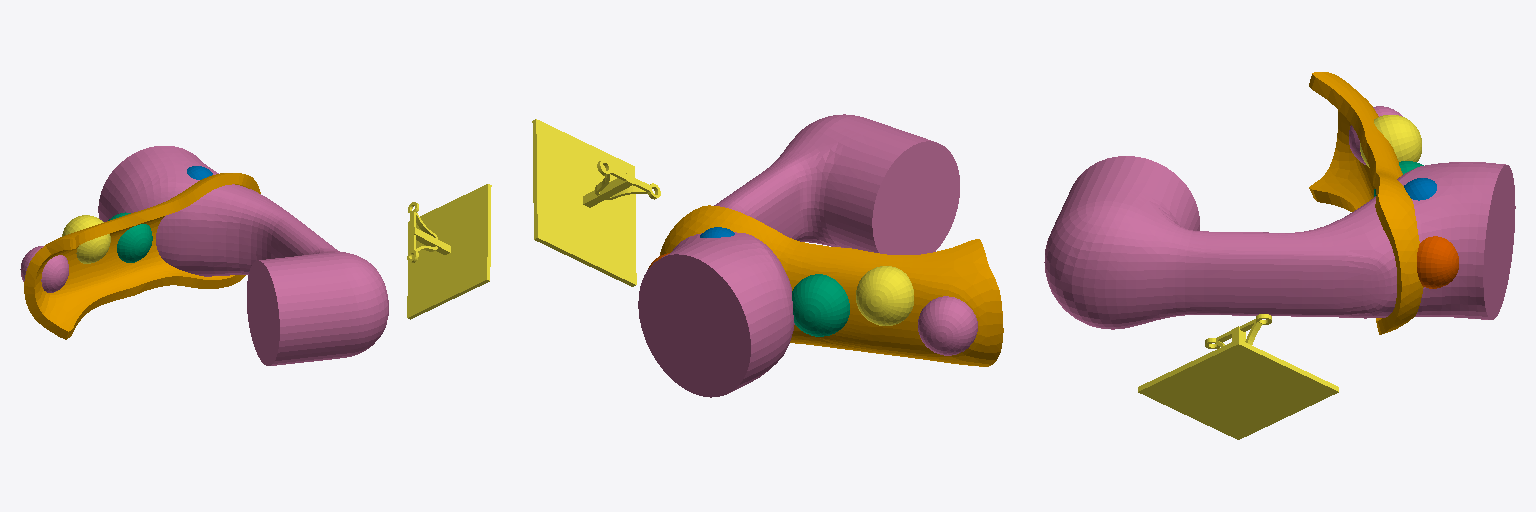
URDF robot description (fr3):
<?xml version="1.0" ?>
<!-- =================================================================================== -->
<!-- |    This document was autogenerated by xacro from fr3.urdf.xacro                 | -->
<!-- |    EDITING THIS FILE BY HAND IS NOT RECOMMENDED                                 | -->
<!-- =================================================================================== -->
<robot name="fr3">
  <!-- safety_distance: Minimum safety distance in [m] by which the collision volumes are expanded and which is enforced during robot motions -->
  <!-- arm_id: Namespace of the robot arm. Serves to differentiate between arms in case of multiple instances. -->
  <!-- joint_limits: description of the joint limits that comes from a YAML file. Example definition: ${xacro.load_yaml('$(find franka_description)/robots/fr3/joint_limits.yaml')} -->
  <!-- kinematics: description of the kinematics that comes from a YAML file. Example definition: ${xacro.load_yaml('$(find franka_description)/robots/fr3/kinematics.yaml')} -->
  <!-- inertials: description of the inertials that comes from a YAML file. Example definition: ${xacro.load_yaml('$(find franka_description)/robots/fr3/inertials.yaml')} -->
  <!-- dynamics: description of the dynamics that comes from a YAML file. Example definition: ${xacro.load_yaml('$(find franka_description)/robots/fr3/dynamics.yaml')} -->
  <link name="base">
      </link>
  <joint name="fr3_base_joint" type="fixed">
    <parent link="base"/>
    <child link="fr3_link0"/>
    <origin rpy="0 0 0" xyz="0 0 0"/>
  </joint>
  <!-- sub-link defining detailed meshes for collision with environment -->
  <link name="fr3_link0">
    <visual name="fr3_link0_visual">
      <geometry>
        <mesh filename="package://franka_description/meshes/robot_arms/fr3/visual/link0.dae"/>
      </geometry>
    </visual>
    <collision name="fr3_link0_collision">
      <geometry>
        <mesh filename="package://franka_description/meshes/robot_arms/fr3/collision/link0.stl"/>
      </geometry>
    </collision>
    <inertial>
      <origin rpy="0 0 0" xyz="-0.0172 0.0004 0.0745"/>
      <mass value="2.3966"/>
      <inertia ixx="0.009" ixy="0.0" ixz="0.002" iyy="0.0115" iyz="0.0" izz="0.0085"/>
    </inertial>
  </link>
  <!-- sub-link defining detailed meshes for collision with environment -->
  <link name="fr3_link1">
    <visual name="fr3_link1_visual">
      <geometry>
        <mesh filename="package://franka_description/meshes/robot_arms/fr3/visual/link1.dae"/>
      </geometry>
    </visual>
    <collision name="fr3_link1_collision">
      <geometry>
        <mesh filename="package://franka_description/meshes/robot_arms/fr3/collision/link1.stl"/>
      </geometry>
    </collision>
    <inertial>
      <origin rpy="0 0 0" xyz="0.0000004128 -0.0181251324 -0.0386035970"/>
      <mass value="2.9274653454"/>
      <inertia ixx="0.023927316485107913" ixy="1.3317903455714081e-05" ixz="-0.00011404774918616684" iyy="0.0224821613275756" iyz="-0.0019950320628240115" izz="0.006350098258530016"/>
    </inertial>
  </link>
  <joint name="fr3_joint1" type="revolute">
    <origin rpy="0 0 0" xyz="0 0 0.333"/>
    <parent link="fr3_link0"/>
    <child link="fr3_link1"/>
    <axis xyz="0 0 1"/>
    <limit effort="87.0" lower="-2.7437" upper="2.7437" velocity="2.62"/>
    <safety_controller k_position="100.0" k_velocity="40.0" soft_lower_limit="-2.7437" soft_upper_limit="2.7437"/>
    <dynamics D="1" K="7000" damping="0.003" friction="0.2" mu_coulomb="0" mu_viscous="16"/>
  </joint>
  <!-- sub-link defining detailed meshes for collision with environment -->
  <link name="fr3_link2">
    <visual name="fr3_link2_visual">
      <geometry>
        <mesh filename="package://franka_description/meshes/robot_arms/fr3/visual/link2.dae"/>
      </geometry>
    </visual>
    <collision name="fr3_link2_collision">
      <geometry>
        <mesh filename="package://franka_description/meshes/robot_arms/fr3/collision/link2.stl"/>
      </geometry>
    </collision>
    <inertial>
      <origin rpy="0 0 0" xyz="0.0031828864 -0.0743221644 0.0088146084"/>
      <mass value="2.9355370338"/>
      <inertia ixx="0.041938946257609425" ixy="0.00020257331521090626" ixz="0.004077784227179924" iyy="0.02514514885014724" iyz="-0.0042252158006570156" izz="0.06170214472888839"/>
    </inertial>
  </link>
  <joint name="fr3_joint2" type="revolute">
    <origin rpy="-1.570796326794897 0 0" xyz="0 0 0"/>
    <parent link="fr3_link1"/>
    <child link="fr3_link2"/>
    <axis xyz="0 0 1"/>
    <limit effort="87.0" lower="-1.7837" upper="1.7837" velocity="2.62"/>
    <safety_controller k_position="100.0" k_velocity="40.0" soft_lower_limit="-1.7837" soft_upper_limit="1.7837"/>
    <dynamics D="1" K="7000" damping="0.003" friction="0.2" mu_coulomb="0" mu_viscous="16"/>
  </joint>
  <!-- sub-link defining detailed meshes for collision with environment -->
  <link name="fr3_link3">
    <visual name="fr3_link3_visual">
      <geometry>
        <mesh filename="package://franka_description/meshes/robot_arms/fr3/visual/link3.dae"/>
      </geometry>
    </visual>
    <collision name="fr3_link3_collision">
      <geometry>
        <mesh filename="package://franka_description/meshes/robot_arms/fr3/collision/link3.stl"/>
      </geometry>
    </collision>
    <inertial>
      <origin rpy="0 0 0" xyz="0.0407015686 -0.0048200565 -0.0289730823"/>
      <mass value="2.2449013699"/>
      <inertia ixx="0.02410142547240885" ixy="0.002404694559042109" ixz="-0.002856269270114313" iyy="0.01974053266708178" iyz="-0.002104212683891874" izz="0.019044494482244823"/>
    </inertial>
  </link>
  <joint name="fr3_joint3" type="revolute">
    <origin rpy="1.570796326794897 0 0" xyz="0 -0.316 0"/>
    <parent link="fr3_link2"/>
    <child link="fr3_link3"/>
    <axis xyz="0 0 1"/>
    <limit effort="87.0" lower="-2.9007" upper="2.9007" velocity="2.62"/>
    <safety_controller k_position="100.0" k_velocity="40.0" soft_lower_limit="-2.9007" soft_upper_limit="2.9007"/>
    <dynamics D="1" K="7000" damping="0.003" friction="0.2" mu_coulomb="0" mu_viscous="16"/>
  </joint>
  <!-- sub-link defining detailed meshes for collision with environment -->
  <link name="fr3_link4">
    <visual name="fr3_link4_visual">
      <geometry>
        <mesh filename="package://franka_description/meshes/robot_arms/fr3/visual/link4.dae"/>
      </geometry>
    </visual>
    <collision name="fr3_link4_collision">
      <geometry>
        <mesh filename="package://franka_description/meshes/robot_arms/fr3/collision/link4.stl"/>
      </geometry>
    </collision>
    <inertial>
      <origin rpy="0 0 0" xyz="-0.0459100965 0.0630492960 -0.0085187868"/>
      <mass value="2.6155955791"/>
      <inertia ixx="0.03452998321913202" ixy="0.01322552265982813" ixz="0.01015142998484113" iyy="0.028881621933049058" iyz="-0.0009762833870704552" izz="0.04125471171146641"/>
    </inertial>
  </link>
  <joint name="fr3_joint4" type="revolute">
    <origin rpy="1.570796326794897 0 0" xyz="0.0825 0 0"/>
    <parent link="fr3_link3"/>
    <child link="fr3_link4"/>
    <axis xyz="0 0 1"/>
    <limit effort="87.0" lower="-3.0421" upper="-0.1518" velocity="2.62"/>
    <safety_controller k_position="100.0" k_velocity="40.0" soft_lower_limit="-3.0421" soft_upper_limit="-0.1518"/>
    <dynamics D="1" K="7000" damping="0.003" friction="0.2" mu_coulomb="0" mu_viscous="16"/>
  </joint>
  <!-- sub-link defining detailed meshes for collision with environment -->
  <link name="fr3_link5">
    <visual name="fr3_link5_visual">
      <geometry>
        <mesh filename="package://franka_description/meshes/robot_arms/fr3/visual/link5.dae"/>
      </geometry>
    </visual>
    <collision name="fr3_link5_collision">
      <geometry>
        <mesh filename="package://franka_description/meshes/robot_arms/fr3/collision/link5.stl"/>
      </geometry>
    </collision>
    <inertial>
      <origin rpy="0 0 0" xyz="-0.0016039605 0.0292536262 -0.0972965990"/>
      <mass value="2.3271207594"/>
      <inertia ixx="0.051610278463662895" ixy="-0.005715173387783472" ixz="-0.0035673167625872135" iyy="0.04787729713371481" iyz="0.010673985108535986" izz="0.016423625579357254"/>
    </inertial>
  </link>
  <joint name="fr3_joint5" type="revolute">
    <origin rpy="-1.570796326794897 0 0" xyz="-0.0825 0.384 0"/>
    <parent link="fr3_link4"/>
    <child link="fr3_link5"/>
    <axis xyz="0 0 1"/>
    <limit effort="12.0" lower="-2.8065" upper="2.8065" velocity="5.26"/>
    <safety_controller k_position="100.0" k_velocity="40.0" soft_lower_limit="-2.8065" soft_upper_limit="2.8065"/>
    <dynamics D="1" K="7000" damping="0.003" friction="0.2" mu_coulomb="0" mu_viscous="16"/>
  </joint>

  <!-- Sensor links -->
  <link name="fr3_link5/base_link"/>
  <joint name="fr3_link5_to_base_link" type="fixed">
    <origin rpy="0 0 0" xyz="0 0 0"/>
    <parent link="fr3_link5"/>
    <child link="fr3_link5/base_link"/>
  </joint>
  <joint name="fr3_link5/base_joint" type="fixed">
    <origin rpy="0 0 0" xyz="0 0 0"/>
    <parent link="fr3_link5/base_link"/>
    <child link="fr3_link5/base_link_inertia"/>
  </joint>
  <link name="fr3_link5/base_link_inertia">
    <visual>
      <origin rpy="0 0 0" xyz="0 0 0"/>
      <geometry>
        <mesh filename="package://gentact_ros_tools/meshes/link5_2.stl" scale="1 1 1"/>
      </geometry>
    </visual>
  </link>
  <joint name="fr3_link5/sensor_0_joint" type="fixed">
    <origin rpy="1.856 -0.000 2.558" xyz="0.034 0.127 -0.019"/>
    <axis xyz="0.529 0.801 -0.281"/>
    <parent link="fr3_link5/base_link"/>
    <child link="fr3_link5/sensor_0"/>
  </joint>
  <link name="fr3_link5/sensor_0">
    <visual>
      <geometry>
        <sphere radius="0.021"/>
        <!-- [m] -->
      </geometry>
    </visual>
    <collision>
      <geometry>
        <sphere radius="0.021"/>
        <!-- [m] -->
      </geometry>
    </collision>
  </link>
  <joint name="fr3_link5/sensor_1_joint" type="fixed">
    <origin rpy="-1.403 3.142 0.049" xyz="-0.004 0.118 -0.089"/>
    <axis xyz="-0.049 0.985 -0.167"/>
    <parent link="fr3_link5/base_link"/>
    <child link="fr3_link5/sensor_1"/>
  </joint>
  <link name="fr3_link5/sensor_1">
    <visual>
      <geometry>
        <sphere radius="0.023"/>
        <!-- [m] -->
      </geometry>
    </visual>
    <collision>
      <geometry>
        <sphere radius="0.023"/>
        <!-- [m] -->
      </geometry>
    </collision>
  </link>
  <joint name="fr3_link5/sensor_2_joint" type="fixed">
    <origin rpy="1.754 0.000 -2.905" xyz="-0.017 0.107 -0.138"/>
    <axis xyz="-0.23 0.956 -0.182"/>
    <parent link="fr3_link5/base_link"/>
    <child link="fr3_link5/sensor_2"/>
  </joint>
  <link name="fr3_link5/sensor_2">
    <visual>
      <geometry>
        <sphere radius="0.022"/>
        <!-- [m] -->
      </geometry>
    </visual>
    <collision>
      <geometry>
        <sphere radius="0.022"/>
        <!-- [m] -->
      </geometry>
    </collision>
  </link>
  <joint name="fr3_link5/sensor_3_joint" type="fixed">
    <origin rpy="1.772 -0.000 -2.583" xyz="-0.035 0.129 -0.011"/>
    <axis xyz="-0.519 0.831 -0.2"/>
    <parent link="fr3_link5/base_link"/>
    <child link="fr3_link5/sensor_3"/>
  </joint>
  <link name="fr3_link5/sensor_3">
    <visual>
      <geometry>
        <sphere radius="0.018"/>
        <!-- [m] -->
      </geometry>
    </visual>
    <collision>
      <geometry>
        <sphere radius="0.018"/>
        <!-- [m] -->
      </geometry>
    </collision>
  </link>
  <joint name="fr3_link5/sensor_4_joint" type="fixed">
    <origin rpy="1.135 -0.000 -3.039" xyz="-0.008 0.136 0.024"/>
    <axis xyz="-0.093 0.902 0.423"/>
    <parent link="fr3_link5/base_link"/>
    <child link="fr3_link5/sensor_4"/>
  </joint>
  <link name="fr3_link5/sensor_4">
    <visual>
      <geometry>
        <sphere radius="0.02"/>
        <!-- [m] -->
      </geometry>
    </visual>
    <collision>
      <geometry>
        <sphere radius="0.02"/>
        <!-- [m] -->
      </geometry>
    </collision>
  </link>
  <joint name="fr3_link5/sensor_5_joint" type="fixed">
    <origin rpy="-1.262 3.142 0.019" xyz="-0.000 0.099 -0.185"/>
    <axis xyz="-0.018 0.952 -0.304"/>
    <parent link="fr3_link5/base_link"/>
    <child link="fr3_link5/sensor_5"/>
  </joint>
  <link name="fr3_link5/sensor_5">
    <visual>
      <geometry>
        <sphere radius="0.022"/>
        <!-- [m] -->
      </geometry>
    </visual>
    <collision>
      <geometry>
        <sphere radius="0.022"/>
        <!-- [m] -->
      </geometry>
    </collision>
  </link>
  <joint name="fr3_link5/sensor_6_joint" type="fixed">
    <origin rpy="-1.229 3.142 0.054" xyz="-0.007 0.130 -0.039"/>
    <axis xyz="-0.051 0.941 -0.335"/>
    <parent link="fr3_link5/base_link"/>
    <child link="fr3_link5/sensor_6"/>
  </joint>
  <link name="fr3_link5/sensor_6">
    <visual>
      <geometry>
        <sphere radius="0.018"/>
        <!-- [m] -->
      </geometry>
    </visual>
    <collision>
      <geometry>
        <sphere radius="0.018"/>
        <!-- [m] -->
      </geometry>
    </collision>
  </link>
  
  <!-- sub-link defining detailed meshes for collision with environment -->
  <link name="fr3_link6">
    <visual name="fr3_link6_visual">
      <geometry>
        <mesh filename="package://franka_description/meshes/robot_arms/fr3/visual/link6.dae"/>
      </geometry>
    </visual>
    <collision name="fr3_link6_collision">
      <geometry>
        <mesh filename="package://franka_description/meshes/robot_arms/fr3/collision/link6.stl"/>
      </geometry>
    </collision>
    <inertial>
      <origin rpy="0 0 0" xyz="0.0597131221 -0.0410294666 -0.0101692726"/>
      <mass value="1.8170376524"/>
      <inertia ixx="0.005412333594383447" ixy="0.006193456360285834" ixz="0.0014219289306117652" iyy="0.014058329545509979" iyz="-0.0013140753741120031" izz="0.016080817924212554"/>
    </inertial>
  </link>
  <joint name="fr3_joint6" type="revolute">
    <origin rpy="1.570796326794897 0 0" xyz="0 0 0"/>
    <parent link="fr3_link5"/>
    <child link="fr3_link6"/>
    <axis xyz="0 0 1"/>
    <limit effort="12.0" lower="0.5445" upper="4.5169" velocity="4.18"/>
    <safety_controller k_position="100.0" k_velocity="40.0" soft_lower_limit="0.5445" soft_upper_limit="4.5169"/>
    <dynamics D="1" K="7000" damping="0.003" friction="0.2" mu_coulomb="0" mu_viscous="16"/>
  </joint>
  <!-- sub-link defining detailed meshes for collision with environment -->
  <link name="fr3_link7">
    <visual name="fr3_link7_visual">
      <geometry>
        <mesh filename="package://franka_description/meshes/robot_arms/fr3/visual/link7.dae"/>
      </geometry>
    </visual>
    <collision name="fr3_link7_collision">
      <geometry>
        <mesh filename="package://franka_description/meshes/robot_arms/fr3/collision/link7.stl"/>
      </geometry>
    </collision>
    <inertial>
      <origin rpy="0 0 0" xyz="0.0045225817 0.0086261921 -0.0161633251"/>
      <mass value="0.6271432862"/>
      <inertia ixx="0.00021092389150104718" ixy="-2.433299114461931e-05" ixz="4.564480393778983e-05" iyy="0.00017718568002411474" iyz="8.744070223226438e-05" izz="5.993190599659971e-05"/>
    </inertial>
  </link>
  <joint name="fr3_joint7" type="revolute">
    <origin rpy="1.570796326794897 0 0" xyz="0.088 0 0"/>
    <parent link="fr3_link6"/>
    <child link="fr3_link7"/>
    <axis xyz="0 0 1"/>
    <limit effort="12.0" lower="-3.0159" upper="3.0159" velocity="5.26"/>
    <safety_controller k_position="100.0" k_velocity="40.0" soft_lower_limit="-3.0159" soft_upper_limit="3.0159"/>
    <dynamics D="1" K="7000" damping="0.003" friction="0.2" mu_coulomb="0" mu_viscous="16"/>
  </joint>
  <link name="fr3_link8"/>
  <joint name="fr3_joint8" type="fixed">
    <origin rpy="0 0 0" xyz="0 0 0.107"/>
    <parent link="fr3_link7"/>
    <child link="fr3_link8"/>
  </joint>
  <joint name="fr3_hand_joint" type="fixed">
    <parent link="fr3_link8"/>
    <child link="fr3_hand"/>
    <origin rpy="0 0 -0.7853981633974483" xyz="0 0 0"/>
  </joint>
  <!-- sub-link defining detailed meshes for collision with environment -->
  <link name="fr3_hand">
    <visual name="fr3_hand_visual">
      <geometry>
        <mesh filename="package://gentact_ros_tools/meshes/large_plate_ee.stl"/>
      </geometry>
    </visual>
    <collision name="fr3_hand_collision">
      <geometry>
        <mesh filename="package://franka_description/meshes/robot_ee/franka_hand_white/collision/hand.stl"/>
      </geometry>
    </collision>
    <inertial>
      <origin rpy="0 0 0" xyz="-0.0000376 0.0119128 0.0207260"/>
      <mass value="0.6544"/>
      <inertia ixx="0.00186" ixy="0.0" ixz="0.0" iyy="0.0003" iyz="-2e-05" izz="0.00174"/>
    </inertial>
  </link>
</robot>

--- Render facts (derived) ---
The picture shows the robot from 3 angles, left to right: view 1: azimuth 30°, elevation 25°; view 2: azimuth 150°, elevation 25°; view 3: azimuth 270°, elevation 25°; orthographic projection.
Robot: fr3 — 20 links, 19 joints (7 revolute, 12 fixed); root link base; default pose: all joints at 0 but 2 set to mid-range because 0 is outside their limits (fr3_joint4 = -1.6, fr3_joint6 = 2.53).
Visible links, largest first — view 1: fr3_link5, fr3_link5/base_link_inertia, fr3_hand, fr3_link5/sensor_2, fr3_link5/sensor_1, fr3_link5/sensor_5; view 2: fr3_link5, fr3_link5/base_link_inertia, fr3_hand, fr3_link5/sensor_1, fr3_link5/sensor_2, fr3_link5/sensor_5; view 3: fr3_link5, fr3_hand, fr3_link5/base_link_inertia, fr3_link5/sensor_4, fr3_link5/sensor_2, fr3_link5/sensor_3.
Link boxes in pixels (left/top/right/bottom): fr3_link5: left=98, top=146, right=388, bottom=365; fr3_link5/base_link_inertia: left=24, top=173, right=260, bottom=339; fr3_hand: left=407, top=184, right=491, bottom=319; fr3_link5/sensor_2: left=62, top=215, right=110, bottom=263; fr3_link5/sensor_1: left=108, top=212, right=152, bottom=262; fr3_link5/sensor_5: left=20, top=246, right=68, bottom=292; fr3_link5: left=638, top=114, right=959, bottom=397; fr3_link5/base_link_inertia: left=660, top=205, right=1003, bottom=366; fr3_hand: left=532, top=119, right=660, bottom=286; fr3_link5/sensor_1: left=792, top=274, right=849, bottom=336; fr3_link5/sensor_2: left=856, top=266, right=913, bottom=325; fr3_link5/sensor_5: left=918, top=296, right=977, bottom=355; fr3_link5: left=1044, top=156, right=1515, bottom=329; fr3_hand: left=1138, top=314, right=1338, bottom=439; fr3_link5/base_link_inertia: left=1309, top=72, right=1423, bottom=334; fr3_link5/sensor_4: left=1417, top=236, right=1458, bottom=288; fr3_link5/sensor_2: left=1360, top=115, right=1421, bottom=167; fr3_link5/sensor_3: left=1404, top=178, right=1436, bottom=200.
Bounding box of the posed robot: 0.4396 × 0.3302 × 0.1353 m (x, y, z).
3 mesh visuals loaded from 10 distinct referenced files (2 binary STL, 1 Collada DAE); not drawn: 7 (reference not matched to a file when rendering).